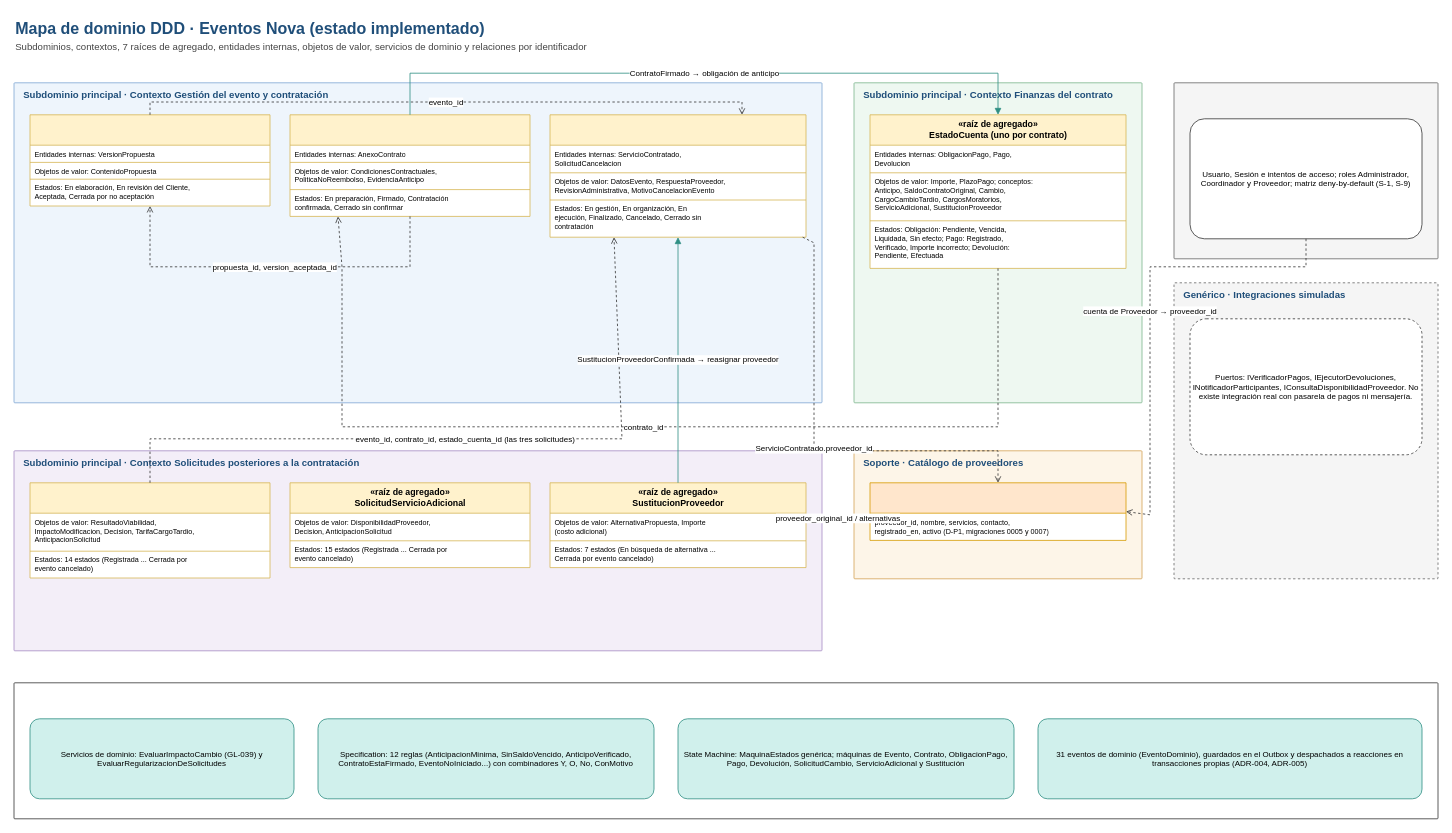
The diagram is 1452 pixels wide and 833 high, and some of its shapes have lost their labels. Here are the shapes that lost their labels. From the top down, the box of each, then its label:
(29, 114, 270, 206): «raíz de agregado» Propuesta
(289, 114, 530, 216): «raíz de agregado» Contrato
(549, 114, 806, 237): «raíz de agregado» Evento
(1173, 82, 1438, 259): Genérico · Identidad y acceso
(29, 482, 270, 578): «raíz de agregado» SolicitudCambio
(869, 482, 1126, 540): «objeto de valor / registro» Proveedor
(13, 682, 1438, 819): Lógica de dominio transversal
